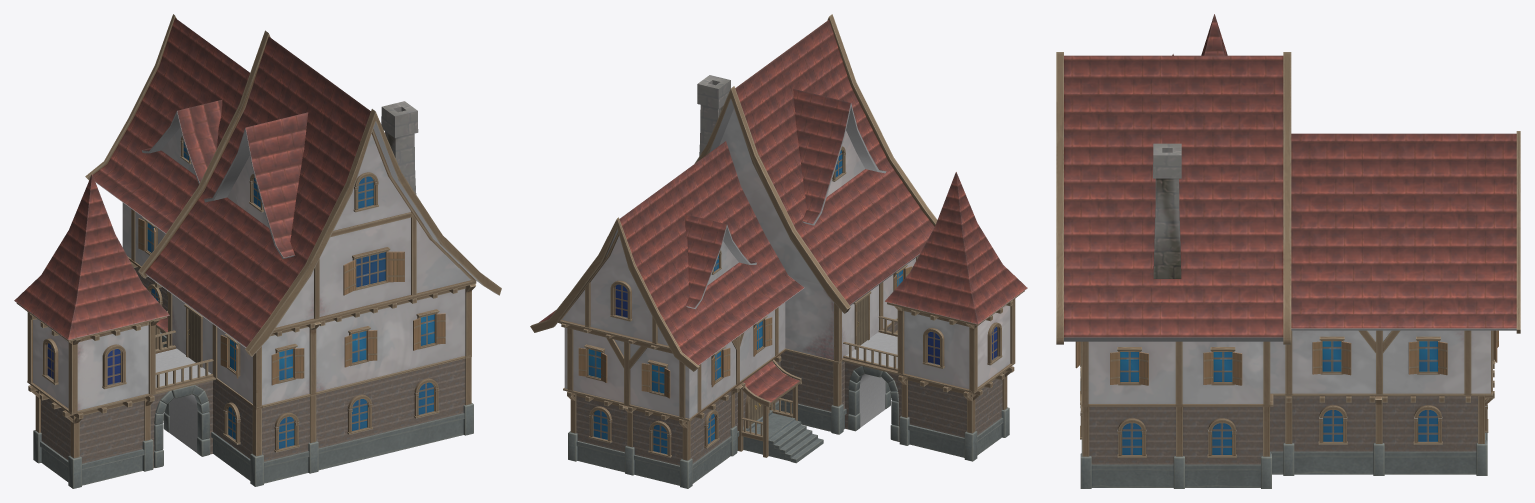
Rendered from stylized-house.glb.
3 renders of one model, left to right at view 1: azimuth 30°, elevation 25°; view 2: azimuth 150°, elevation 25°; view 3: azimuth 270°, elevation 25°, orthographic. The views are drawn at different scales.
Parts seen in each view (by area): view 1: SM_House; view 2: SM_House; view 3: SM_House.
Part boxes in pixels (bbox=[...]): SM_House: bbox=[14, 14, 501, 488]; SM_House: bbox=[530, 14, 1027, 488]; SM_House: bbox=[1056, 14, 1520, 488].
Bounding box in the file's own units: 15.4 × 13.63 × 15.09.
Materials: 1 (1 with a texture image).
